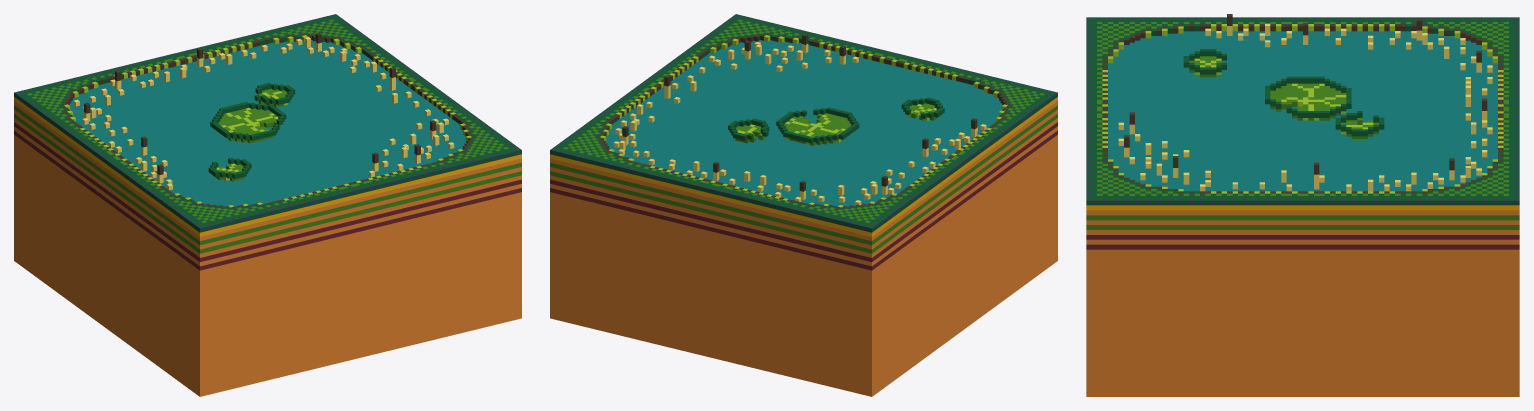
The model's file is swamp_tile.obj.
The picture shows the model from 3 angles, left to right: view 1: azimuth 30°, elevation 25°; view 2: azimuth 150°, elevation 25°; view 3: azimuth 270°, elevation 25°; orthographic projection. The views are drawn at different scales.
Bounding box in the file's own units: 8 × 4.4 × 8.
1 material, 1 textured.
